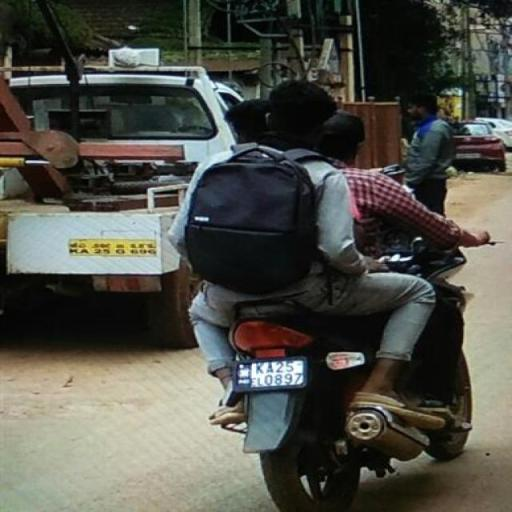tripple riding: (166, 76, 409, 306)
